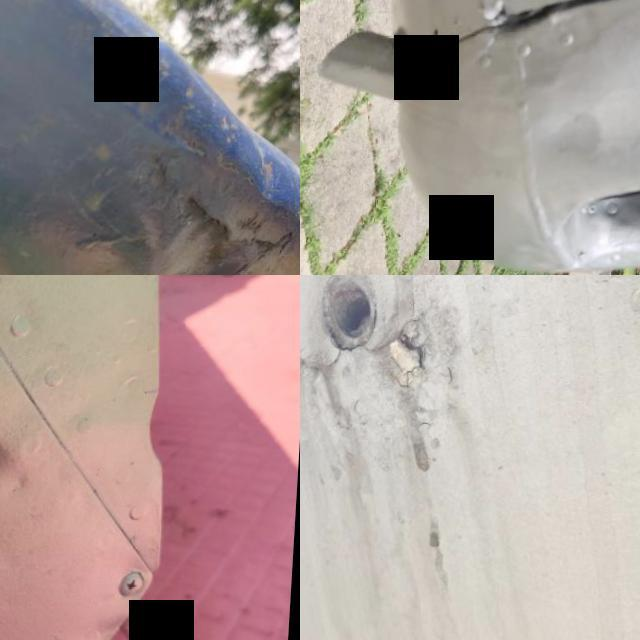Crack: (366, 314, 453, 396)
Dent: (38, 125, 277, 275), (474, 2, 640, 199), (0, 408, 48, 517)
